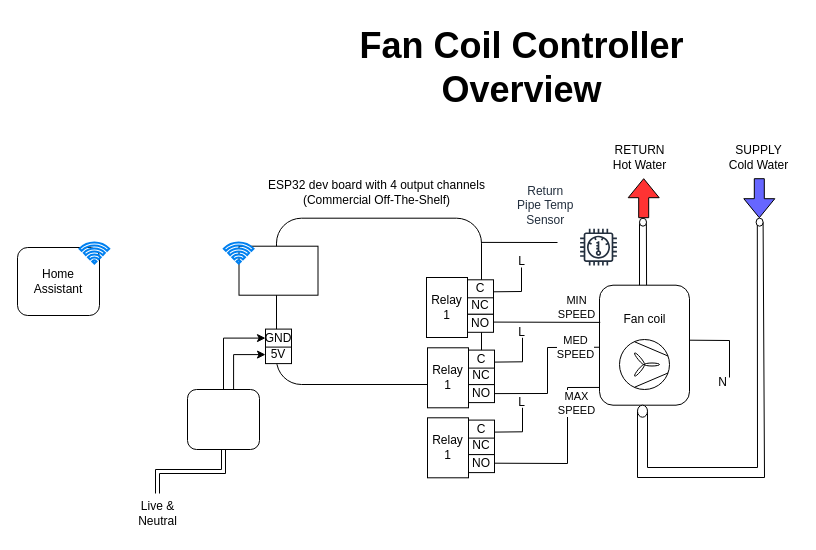
Some shapes in this 816 by 550 pixel diagram are drawn without their labels. Each missing label, with the centre of its shape:
"220V to 5V adapter" belongs at (223,419).
"ESP32-WROOM" belongs at (278,270).
